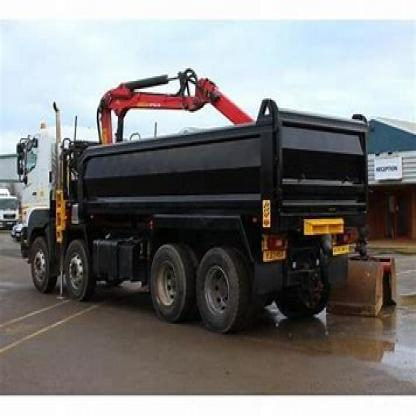dump_truck: (12, 106, 378, 330)
